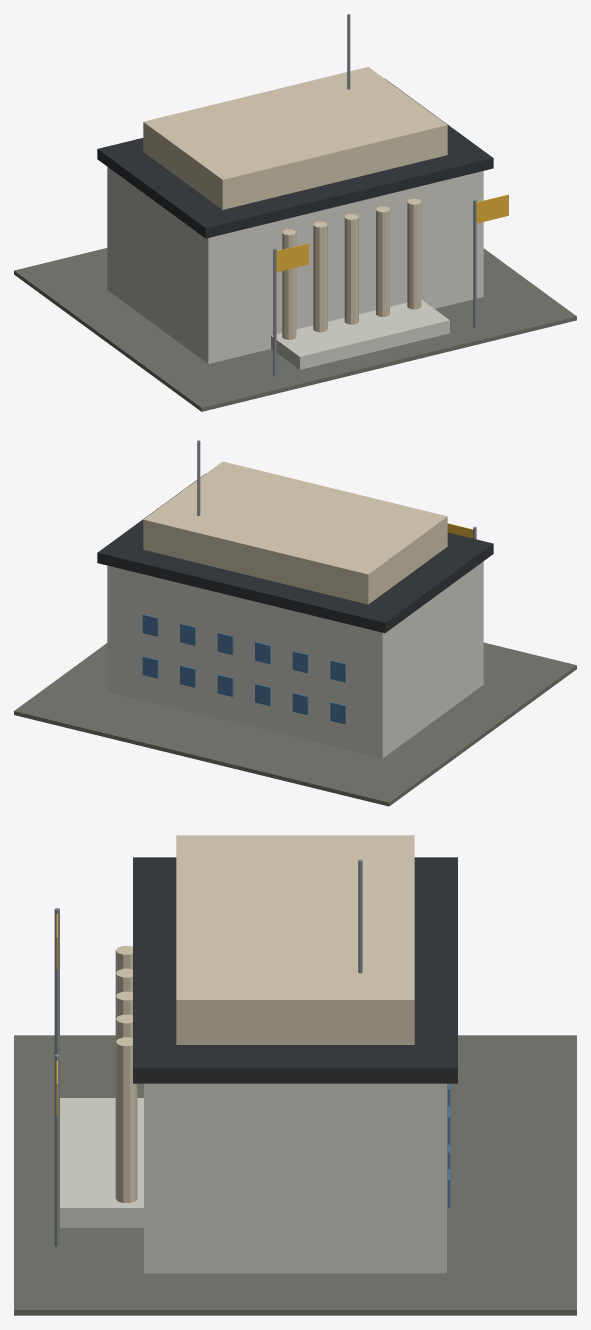
The model's file is politic.glb.
3 renders of one model, top to bottom at view 1: azimuth 30°, elevation 25°; view 2: azimuth 150°, elevation 25°; view 3: azimuth 270°, elevation 25°, orthographic. The views are drawn at different scales.
Parts seen in each view (by area): view 1: politic; view 2: politic; view 3: politic.
Boxes of the visible parts, x1,y1,x2,y2 form: politic: [14, 14, 576, 411]; politic: [14, 440, 576, 806]; politic: [14, 835, 576, 1315].
Size of the model in its own units: 30 by 19 by 26.
